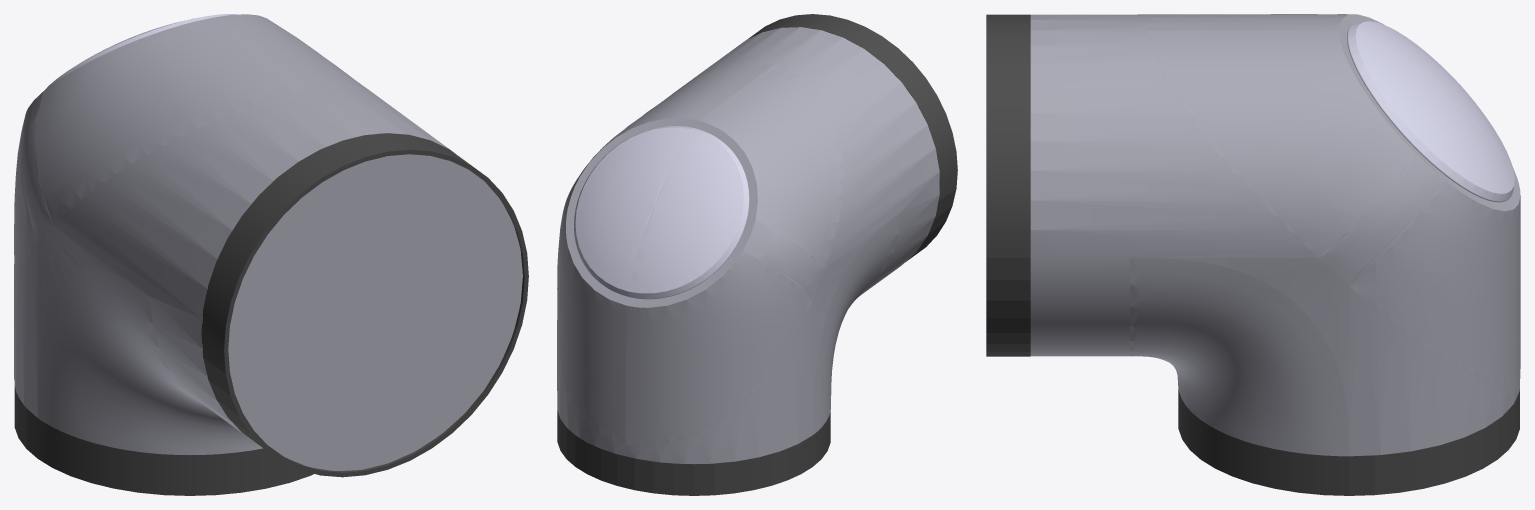
3 views of the same model, side by side, from view 1: azimuth 30°, elevation 25°; view 2: azimuth 150°, elevation 25°; view 3: azimuth 270°, elevation 25° (orthographic). The views are drawn at different scales.
Visible parts, largest first — view 1: mesh; view 2: mesh; view 3: mesh.
Boxes of the visible parts, left/top/right/bottom form: mesh: left=14, top=14, right=528, bottom=495; mesh: left=557, top=14, right=957, bottom=495; mesh: left=986, top=14, right=1520, bottom=495.
Size of the model in its own units: 0.072 by 0.1122 by 0.0912.
